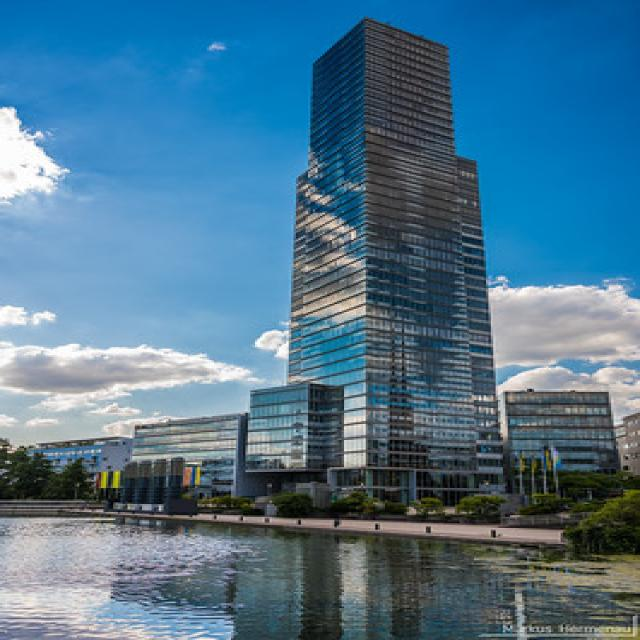building: (280, 13, 516, 514)
